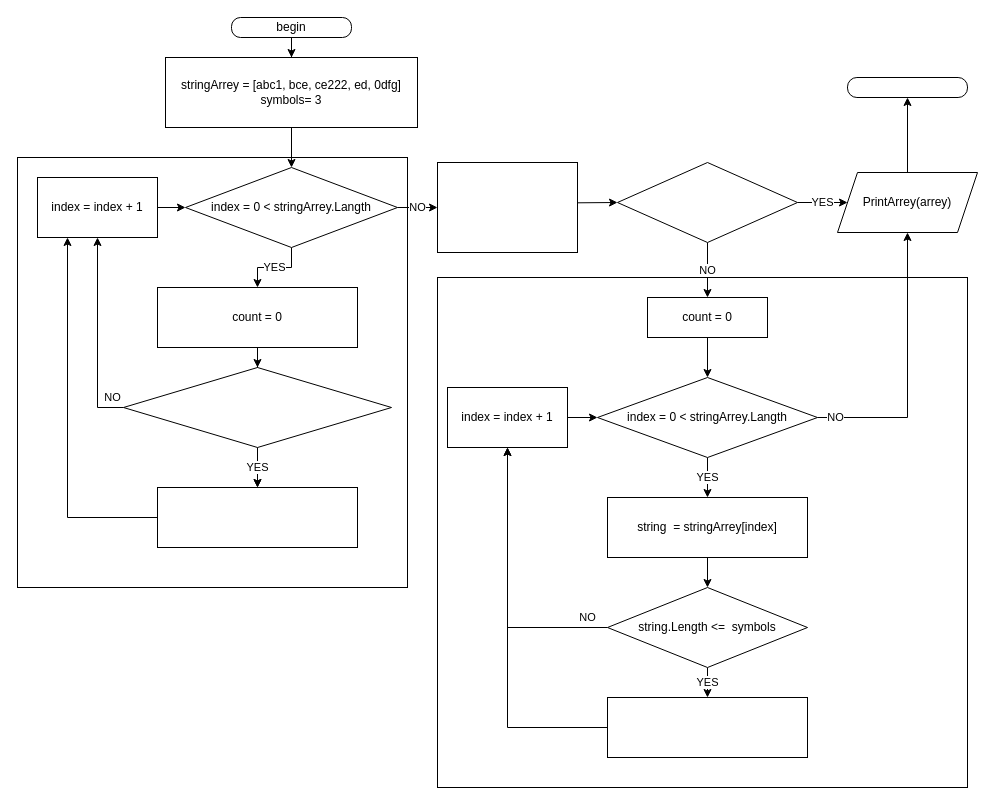
The diagram is 995 pixels wide and 805 high, and some of its shapes have lost their labels. Each missing label, with the centre of its shape:
arrey = new string[count]: pixel 507 207
arrey.Length == 0: pixel 707 202
arrey[count] = stringArrey[index] count++: pixel 707 727
count++: pixel 257 517
end: pixel 907 87
stringArrey[index].Length <= symbols: pixel 257 407
